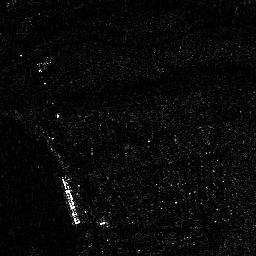ship: (60, 175, 81, 225)
